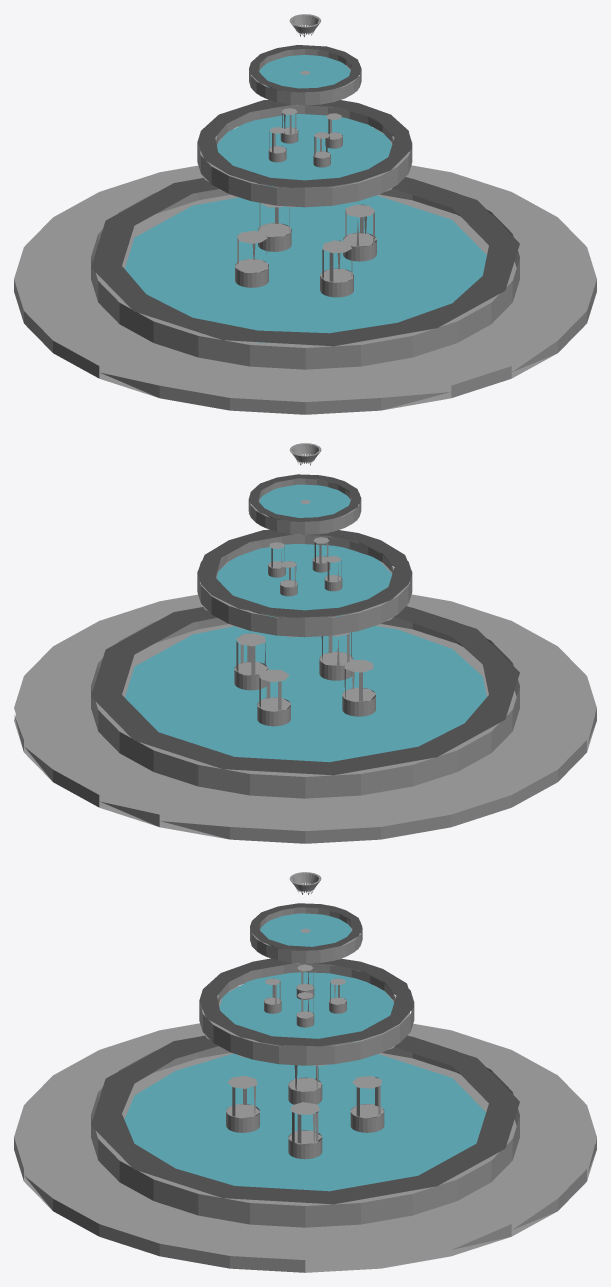
The model's file is fountain.fbx.
3 renders of one model, top to bottom at view 1: azimuth 30°, elevation 25°; view 2: azimuth 150°, elevation 25°; view 3: azimuth 270°, elevation 25°, orthographic.
Parts seen in each view (by area): view 1: Cylinder016; view 2: Cylinder016; view 3: Cylinder016.
Boxes of the visible parts, <box> form: Cylinder016: <box>14,14,596,414</box>; Cylinder016: <box>14,443,596,843</box>; Cylinder016: <box>14,872,596,1272</box>.
Bounding box in the file's own units: 1 × 0.5126 × 1.
